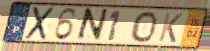1: (108, 10, 122, 43)
6: (53, 7, 78, 42)
K: (157, 11, 184, 44)
N: (74, 7, 111, 43)
O: (130, 10, 158, 44)
X: (23, 5, 57, 41)
